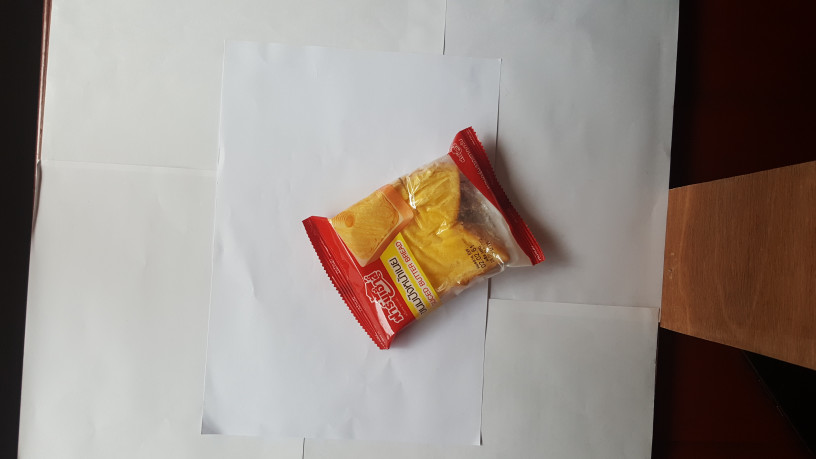farmhouse-bread-butter: (291, 122, 553, 356)
